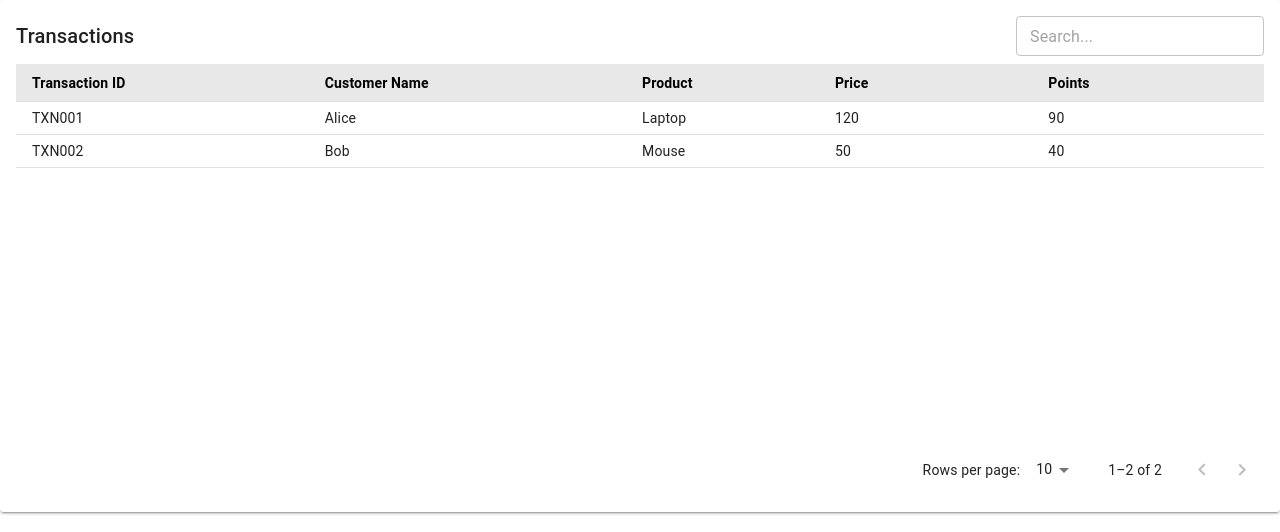
Test case: CustomTable › filters rows based on search input
Type "Alice" into the field at (1140, 36), box [1016, 16, 1264, 56]
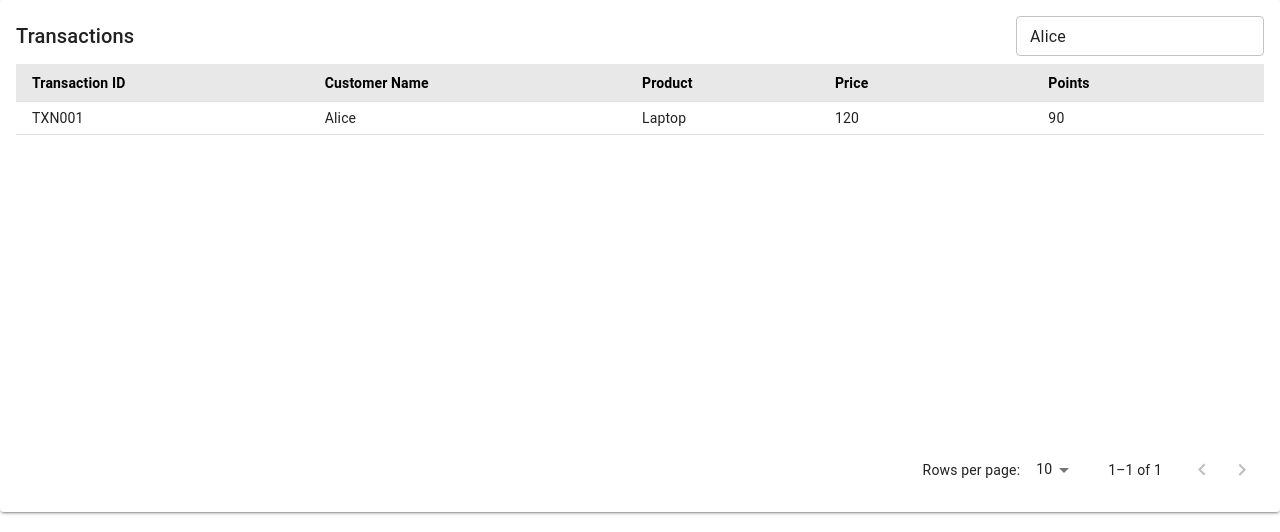
Expected: the text "Alice" is shown, [309, 102, 626, 135]
Expected: the text "Bob" is gone
